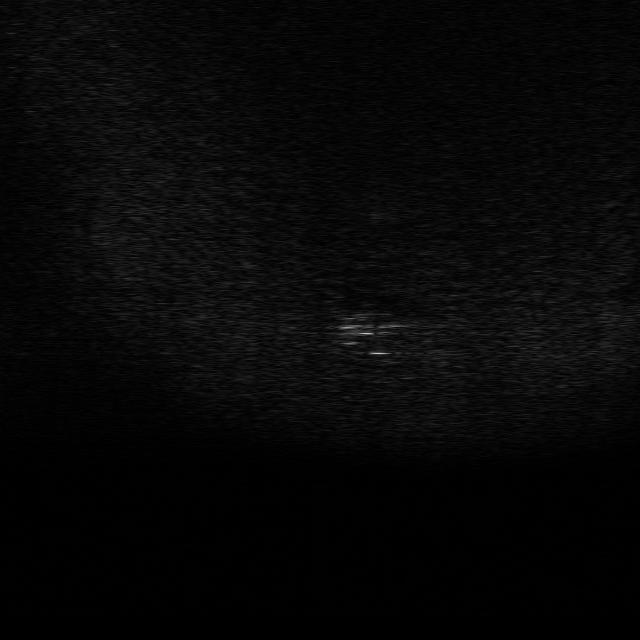plane: (336, 314, 410, 344)
